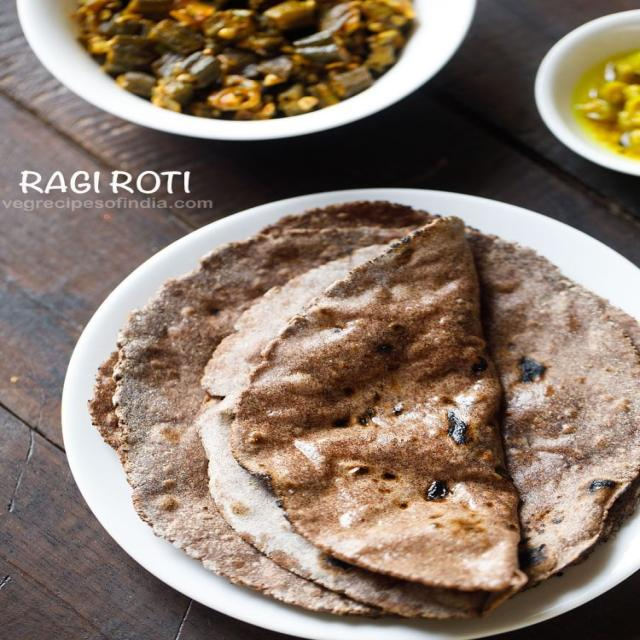ROTI: (87, 201, 521, 607)
